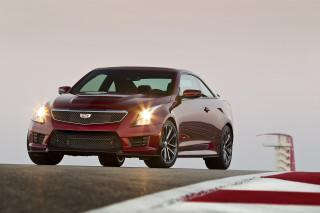cadillac: (77, 111, 93, 120)
